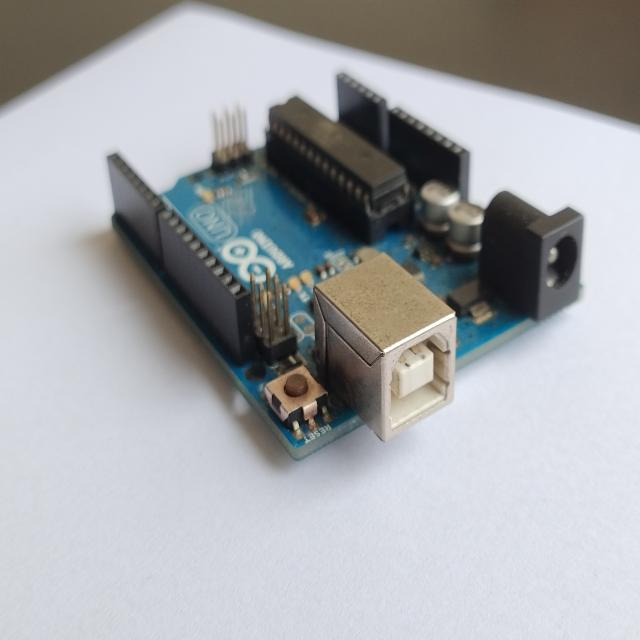arduino: (93, 61, 610, 479)
